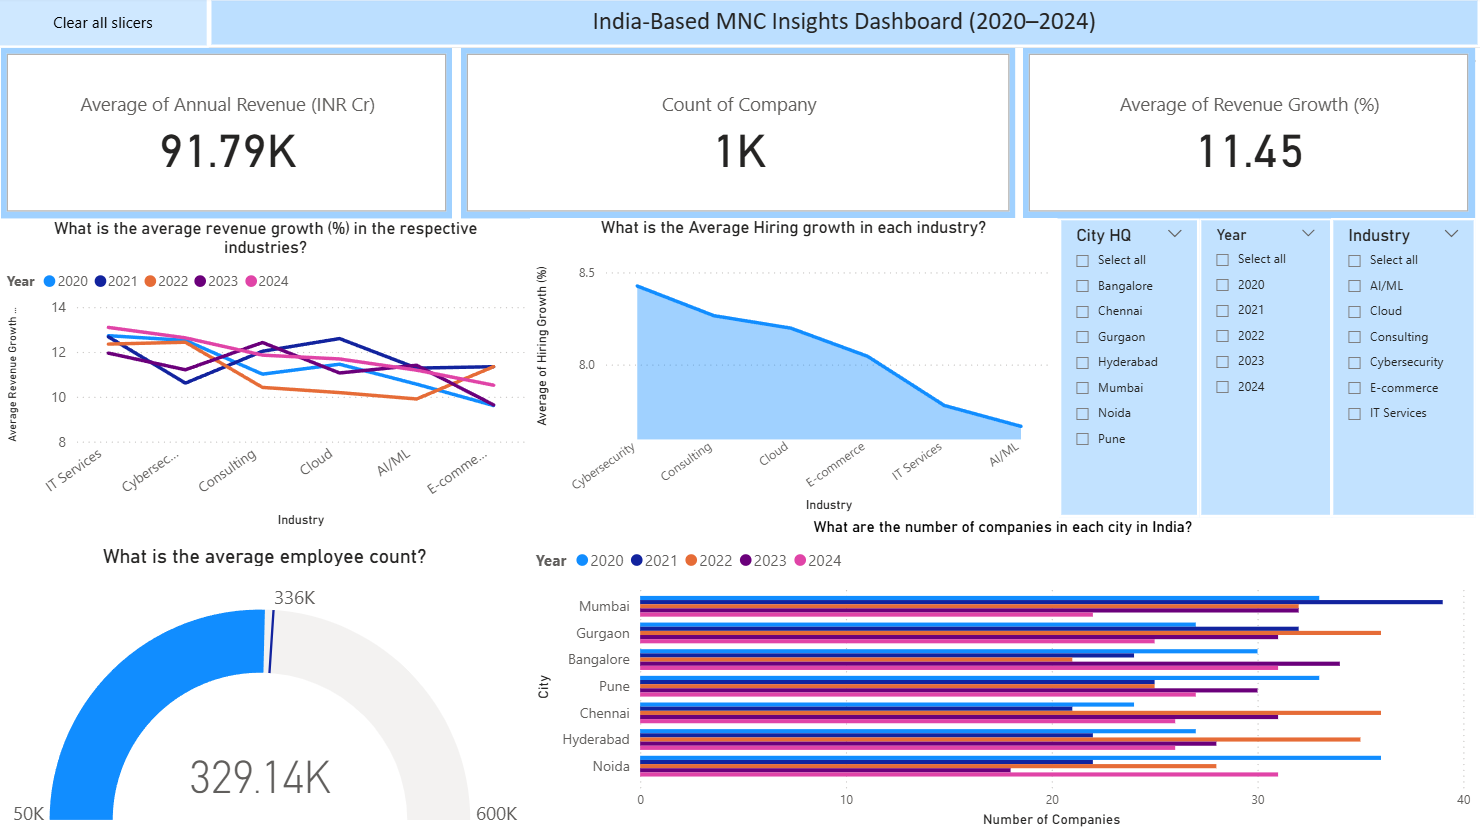

Layout of this report page (visuals, bound fields, positions):
{"tool":"powerbi","page":{"name":"Page 1","canvas":[1280,720],"ordinal":0},"visuals":[{"type":"textbox","box":[182.4,0,1097.6,43.8],"z":0},{"type":"slicer","fields":{"Values":["Sheet1.Year"]},"box":[1036.4,190.9,114.5,257.9],"z":1000},{"type":"slicer","fields":{"Values":["Sheet1.City HQ"]},"box":[915.6,190.9,120.8,257.9],"z":2000},{"type":"clusteredBarChart","title":"What are the number of companies in each city in India?","fields":{"Category":["Sheet1.City HQ"],"Y":["CountNonNull(Sheet1.Company)"],"Series":["Sheet1.Year"]},"box":[460,449,816,271],"z":3000},{"type":"actionButton","box":[0,0,182.9,43.8],"z":4000},{"type":"cardVisual","fields":{"Data":["Avg(Sheet1.Revenue Growth (%))"]},"box":[885,43.8,389.8,147],"z":5000},{"type":"cardVisual","fields":{"Data":["CountNonNull(Sheet1.Company)"]},"box":[400.3,43.8,478.4,147],"z":6000},{"type":"cardVisual","fields":{"Data":["Avg(Sheet1.Annual Revenue (INR Cr))"]},"box":[3.1,43.8,389,147],"z":7000},{"type":"lineChart","title":"What is the average revenue growth (%) in the respective industries?","fields":{"Y":["Avg(Sheet1.Revenue Growth (%))"],"Category":["Sheet1.Industry"],"Series":["Sheet1.Year"]},"box":[3.1,191.8,456.5,270],"z":9000},{"type":"gauge","title":"What is the average employee count?","fields":{"Y":["Avg(Sheet1.Employee Count (India))"],"MinValue":["Min(Sheet1.Employee Count (India))"],"MaxValue":["Max(Sheet1.Employee Count (India))1"],"TargetValue":["Median(Sheet1.Employee Count (India))2"]},"box":[3,472,457,248],"z":10000},{"type":"areaChart","title":"What is the Average Hiring growth in each industry?","fields":{"Y":["Avg(Sheet1.Hiring Growth (%))"],"Category":["Sheet1.Industry"]},"box":[460,191,455,258],"z":11000},{"type":"slicer","fields":{"Values":["Sheet1.Industry"]},"box":[1151,191,125,258],"z":12000}]}

Visuals, with their boxes in screenshot pixels (x1, y1, x2, y2), scaled from the page's 1280x720 canvas onto the 1480x830 screenshot:
textbox: bbox=[211, 0, 1479, 50]
slicer - Sheet1.Year: bbox=[1198, 220, 1331, 517]
slicer - Sheet1.City HQ: bbox=[1059, 220, 1198, 517]
"What are the number of companies in each city in India?" clusteredBarChart: bbox=[532, 518, 1475, 829]
actionButton: bbox=[0, 0, 211, 50]
cardVisual - Avg(Sheet1.Revenue Growth (%)): bbox=[1023, 50, 1474, 220]
cardVisual - CountNonNull(Sheet1.Company): bbox=[463, 50, 1016, 220]
cardVisual - Avg(Sheet1.Annual Revenue (INR Cr)): bbox=[4, 50, 453, 220]
"What is the average revenue growth (%) in the respective industries?" lineChart: bbox=[4, 221, 531, 532]
"What is the average employee count?" gauge: bbox=[3, 544, 532, 829]
"What is the Average Hiring growth in each industry?" areaChart: bbox=[532, 220, 1058, 518]
slicer - Sheet1.Industry: bbox=[1331, 220, 1475, 518]
